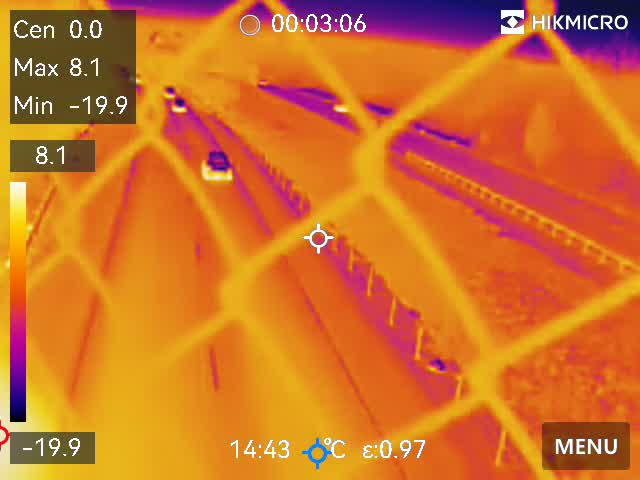vehicle: (196, 144, 237, 185), (330, 96, 355, 114), (168, 100, 190, 113), (250, 77, 273, 87), (160, 85, 177, 96)
